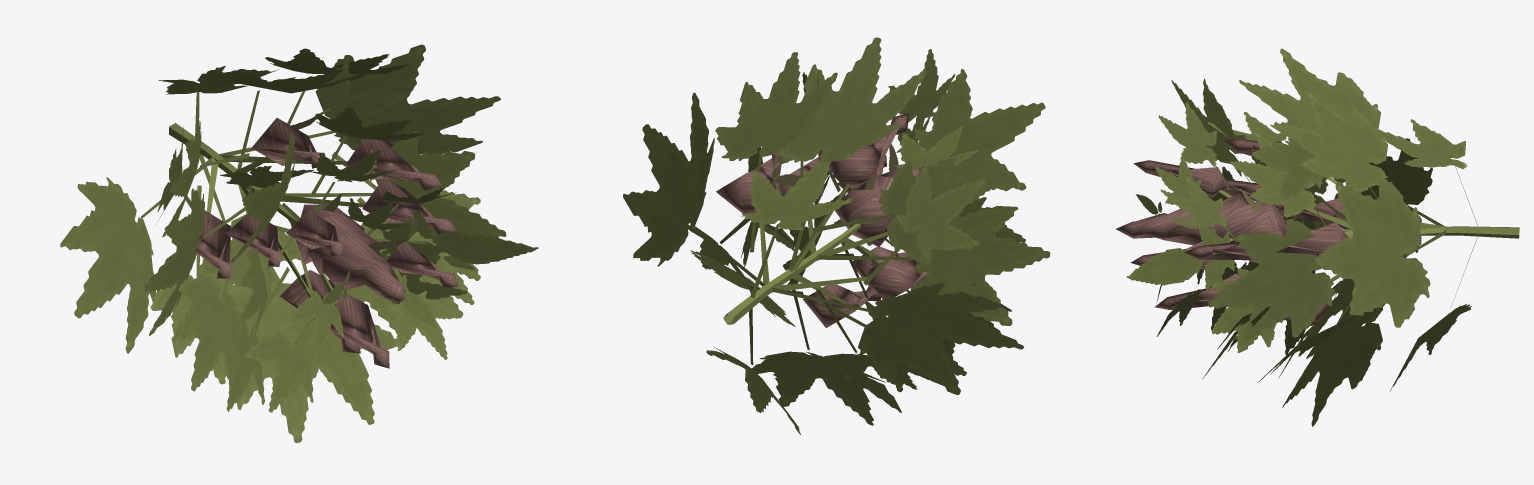
File: p_purple_kush_flowering_c1_cards.obj
The picture shows the model from 3 angles, left to right: view 1: azimuth 30°, elevation 25°; view 2: azimuth 150°, elevation 25°; view 3: azimuth 270°, elevation 25°; orthographic projection. The views are drawn at different scales.
Size of the model in its own units: 1.71 by 1.43 by 1.33.
Materials: 1 (1 with a texture image).
